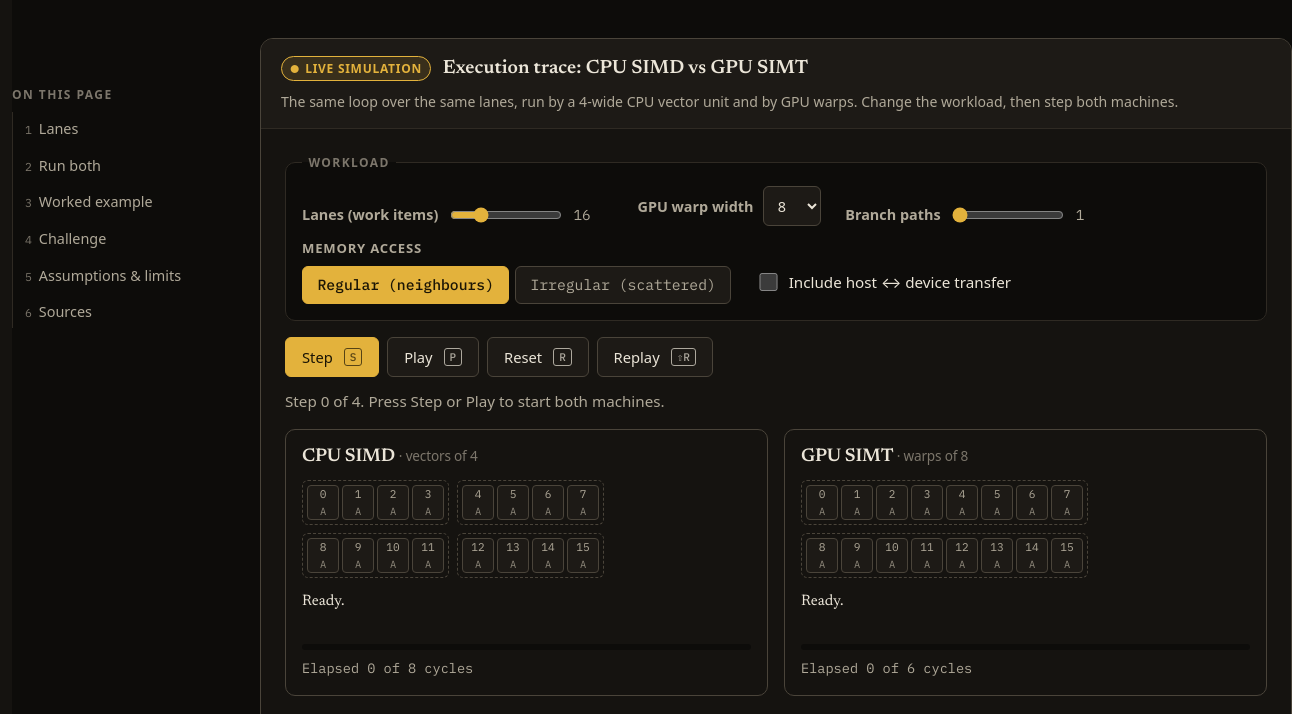
Test: CPU SIMD vs GPU SIMT exhibit › step, pause, reset and replay controls drive the trace with immediate status feedback
(page scrolled)
Check: the message shows "Step 0", box [285,391,665,411]
Click the button "Step S" at {"x": 332, "y": 357}, box [285,337,379,377]
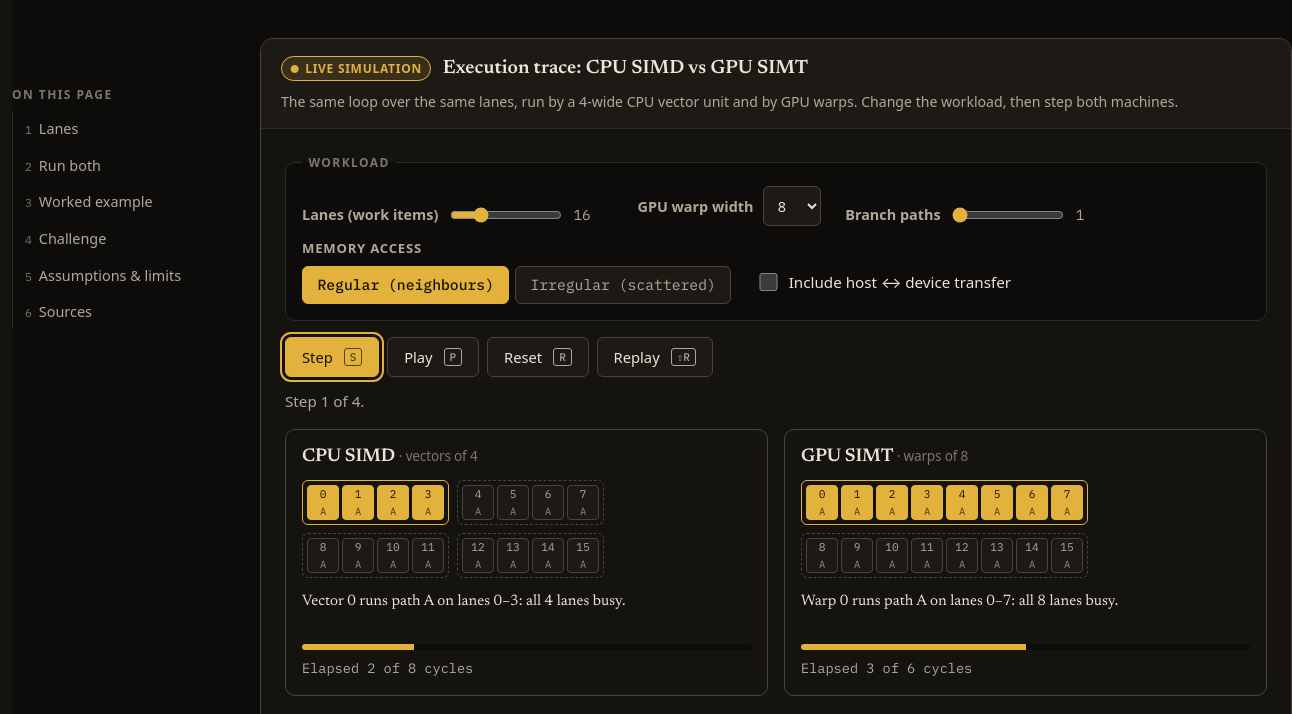
Check: the message shows "Step 1", box [285,391,364,411]
Click the button "Step S" at {"x": 332, "y": 357}, box [285,337,379,377]
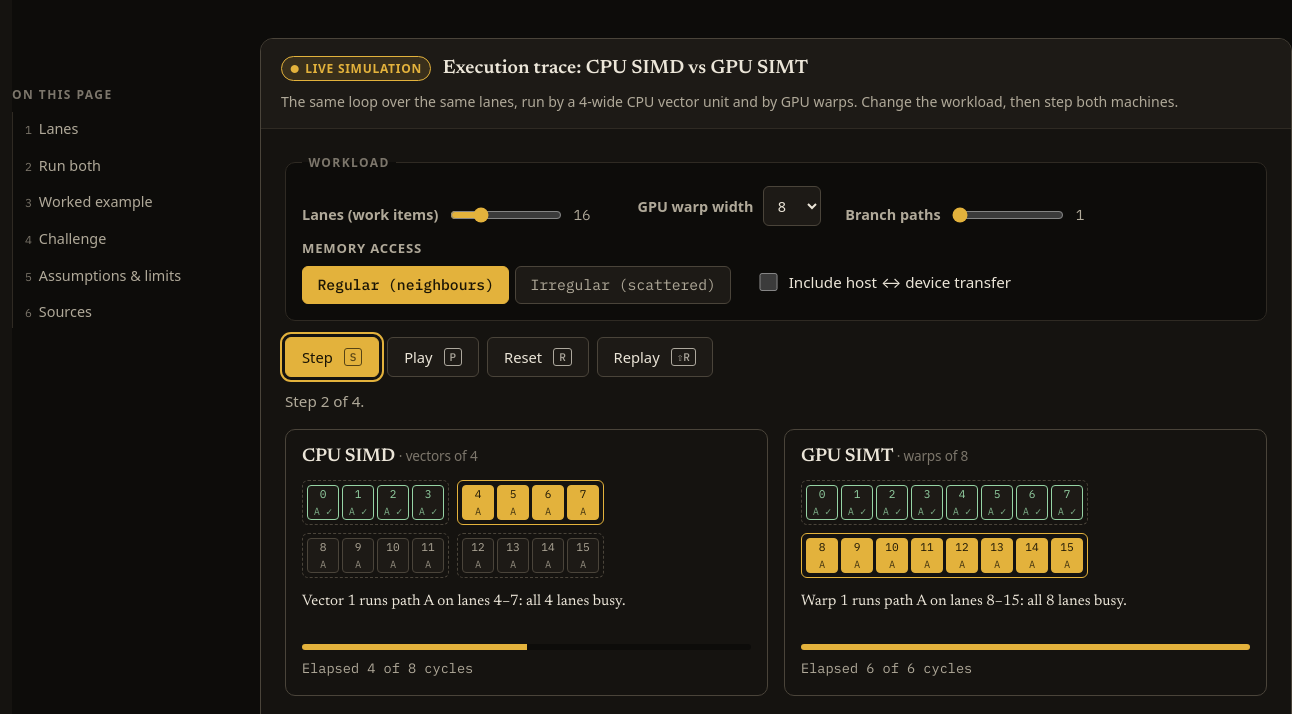
Check: the message shows "Step 2", box [285,391,364,411]
Click the button "Play P" at {"x": 433, "y": 357}, box [387,337,479,377]
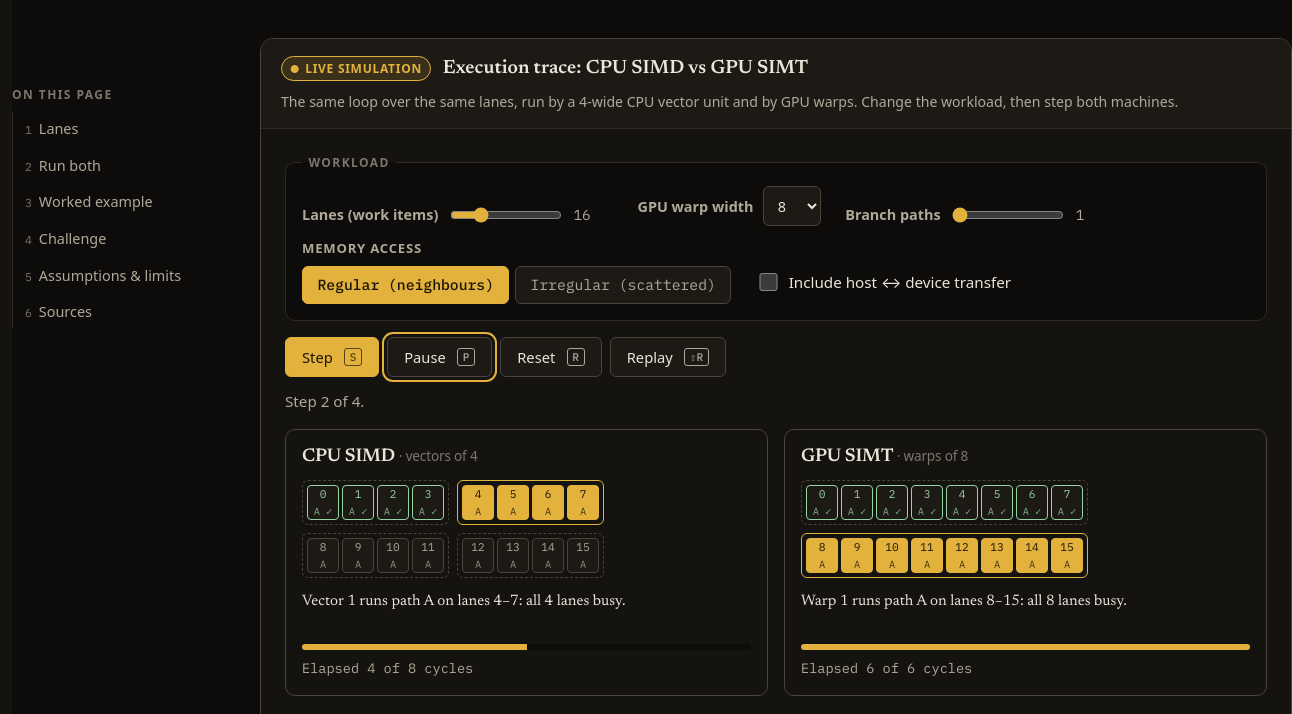
Click the button "Pause P" at {"x": 440, "y": 357}, box [387,337,492,377]
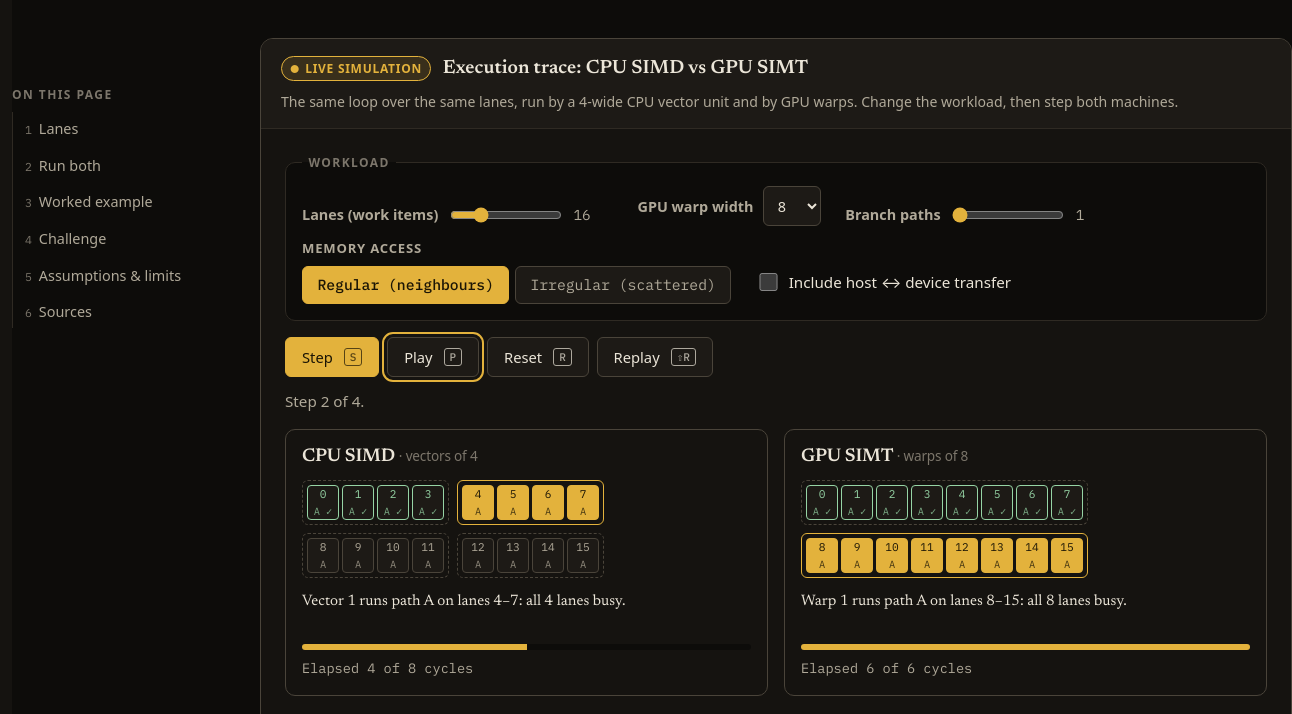
Check: the button "Play P" is shown, box [387,337,479,377]
Click the button "Reset R" at {"x": 538, "y": 357}, box [487,337,588,377]
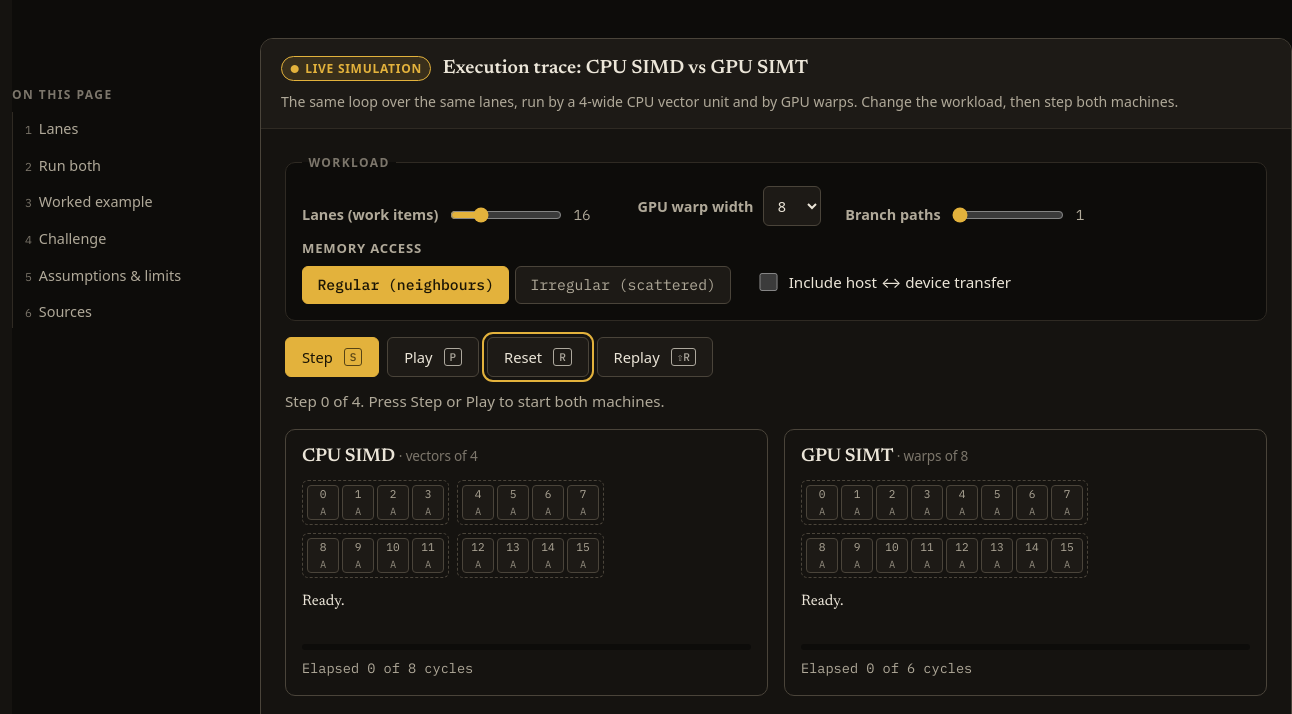
Check: the button "Replay ⇧R" is shown, box [597,337,713,377]
Check: the message shows "Step 0", box [285,391,665,411]
